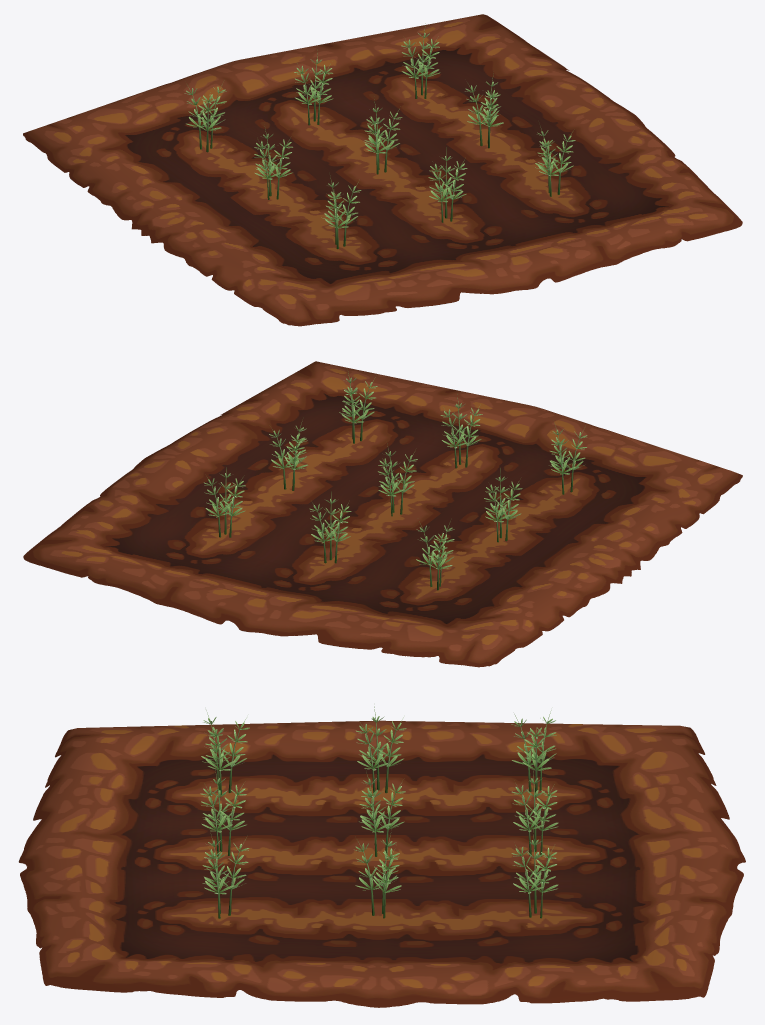
The model's file is Lavender_Field_Lv1.FBX.
The picture shows the model from 3 angles, top to bottom: view 1: azimuth 30°, elevation 25°; view 2: azimuth 150°, elevation 25°; view 3: azimuth 270°, elevation 25°; orthographic projection. The views are drawn at different scales.
Visible parts, largest first — view 1: Lavender_Field_Lv1; view 2: Lavender_Field_Lv1; view 3: Lavender_Field_Lv1.
Part boxes in pixels (x1,y1,x2,y2): Lavender_Field_Lv1: (23,14,742,326); Lavender_Field_Lv1: (23,361,742,667); Lavender_Field_Lv1: (18,706,745,1007).
Size of the model in its own units: 274 by 38.91 by 296.
